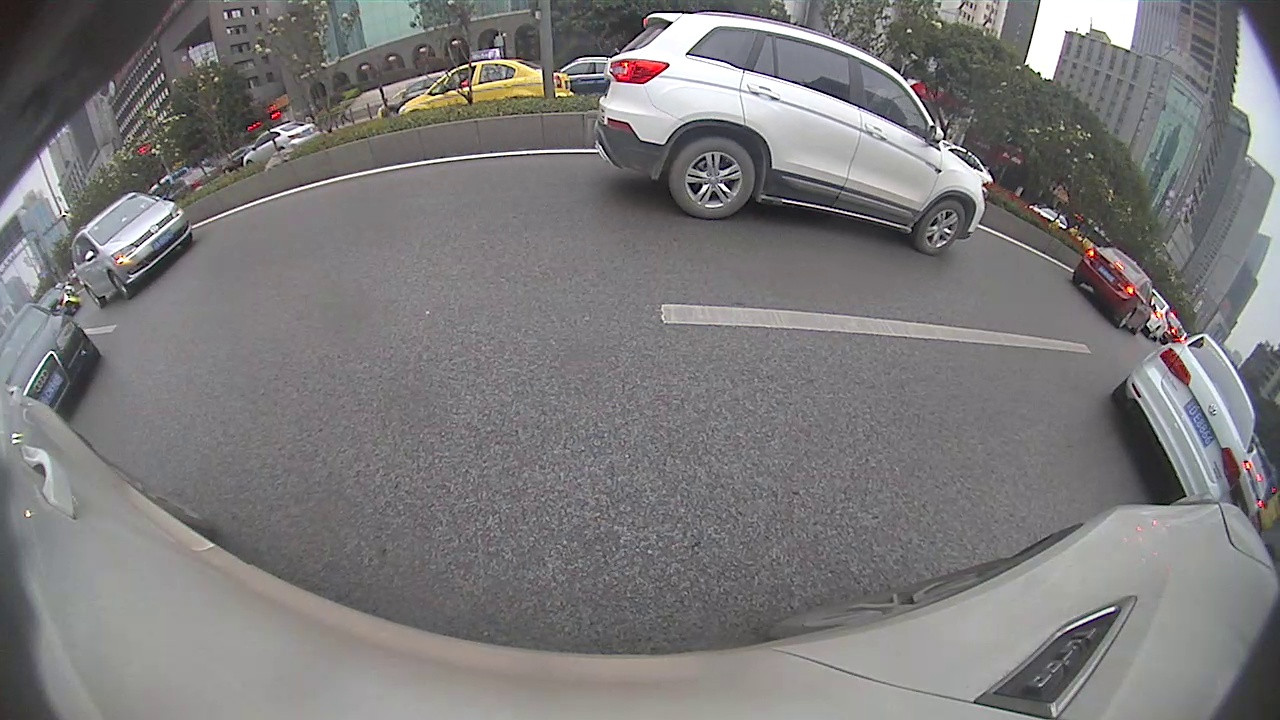car: (592, 8, 988, 258), (1111, 333, 1259, 503), (69, 189, 195, 308), (397, 50, 572, 119), (1, 304, 103, 418), (1072, 244, 1158, 335)
front: (919, 201, 965, 256), (106, 271, 133, 302)
rear: (673, 136, 755, 217), (1116, 308, 1136, 329)
